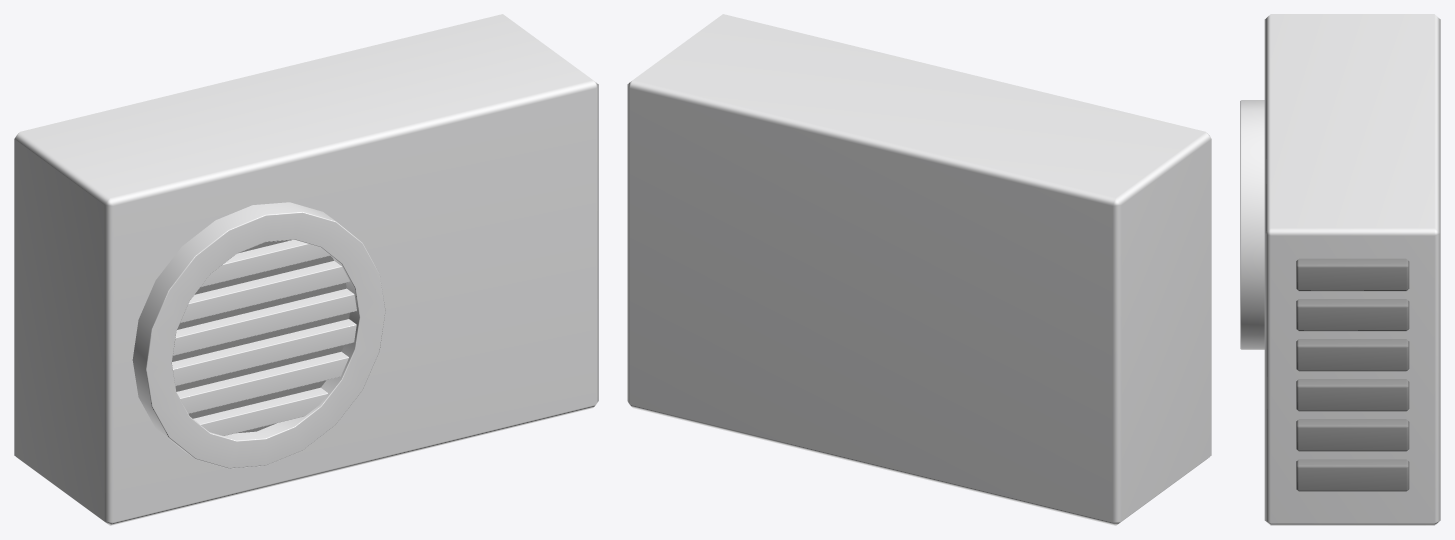
The model's file is City_6_Air_Conditioner_2.glb.
3 views of the same model, side by side, from view 1: azimuth 30°, elevation 25°; view 2: azimuth 150°, elevation 25°; view 3: azimuth 270°, elevation 25° (orthographic). The views are drawn at different scales.
Parts seen in each view (by area): view 1: City_6_Air_Conditioner_2; view 2: City_6_Air_Conditioner_2; view 3: City_6_Air_Conditioner_2.
Boxes of the visible parts, <box> form: City_6_Air_Conditioner_2: <box>14,14,598,525</box>; City_6_Air_Conditioner_2: <box>627,14,1211,525</box>; City_6_Air_Conditioner_2: <box>1240,14,1440,525</box>.
Size of the model in its own units: 1.53 by 0.9435 by 0.5743.
Materials: 1 (1 with a texture image).
